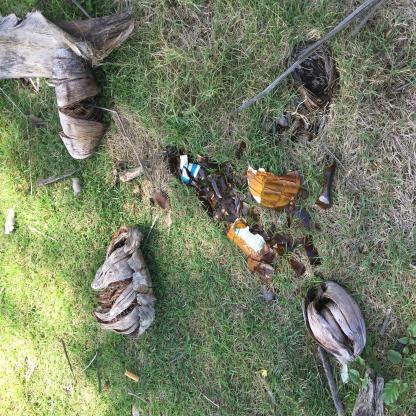trash: (107, 298, 149, 362), (155, 328, 189, 403), (170, 218, 204, 278), (97, 328, 121, 370), (136, 386, 165, 416), (104, 376, 123, 408), (192, 312, 209, 330)
